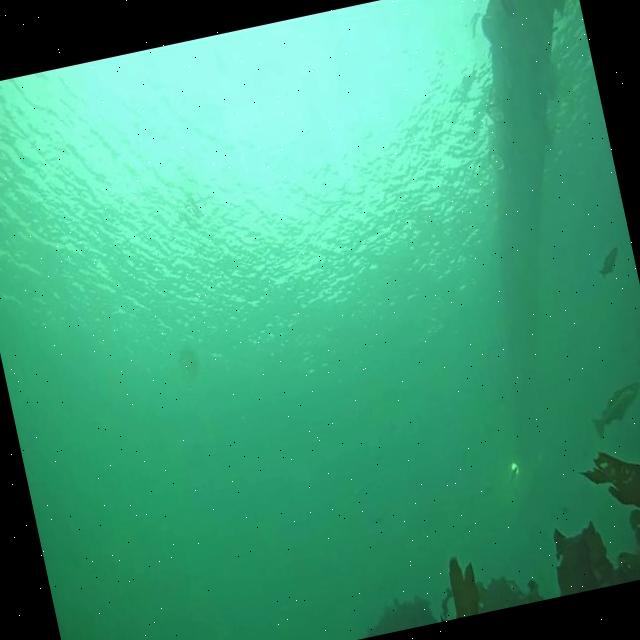fish: (584, 380, 640, 438), (595, 244, 622, 278)
